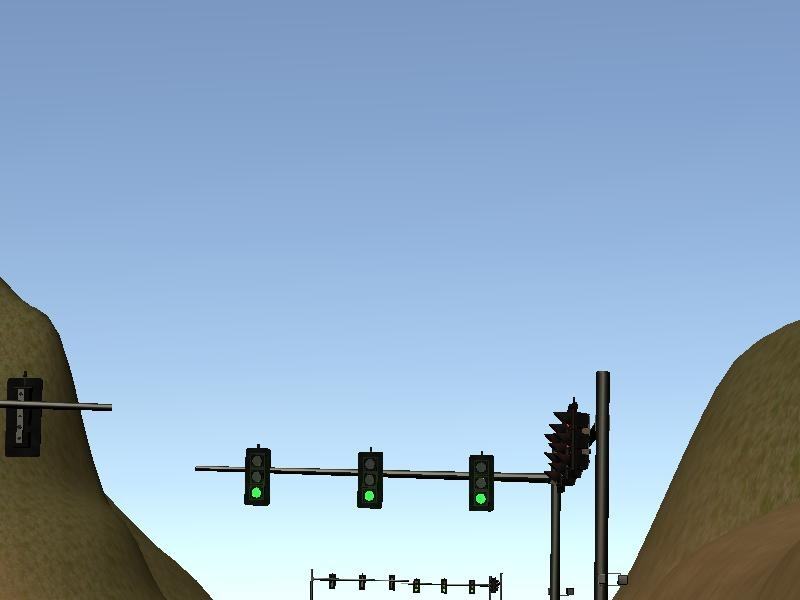GREEN: (245, 449, 271, 506), (358, 453, 383, 509), (470, 456, 493, 512)
